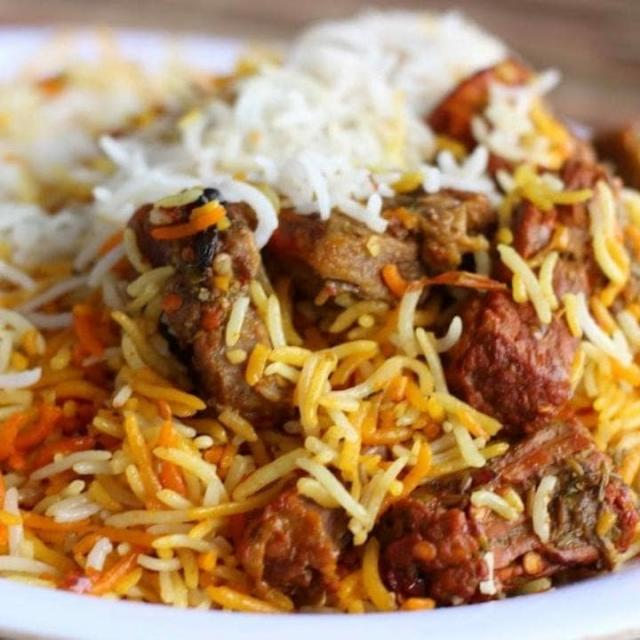Biryani: (0, 45, 636, 621)
